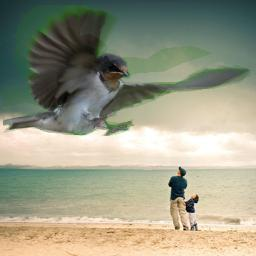Swallow: (3, 5, 251, 136)
